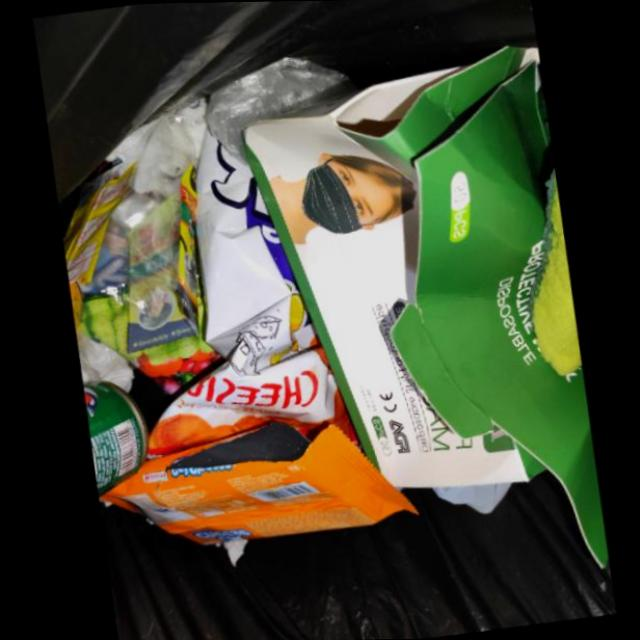bao_bi_thuc_pham: (145, 134, 352, 463), (98, 424, 416, 548)
carton: (238, 46, 608, 565)
goi_nhua_nho: (120, 194, 196, 358), (62, 165, 135, 290), (173, 167, 196, 323)
nhom: (80, 383, 145, 501)
